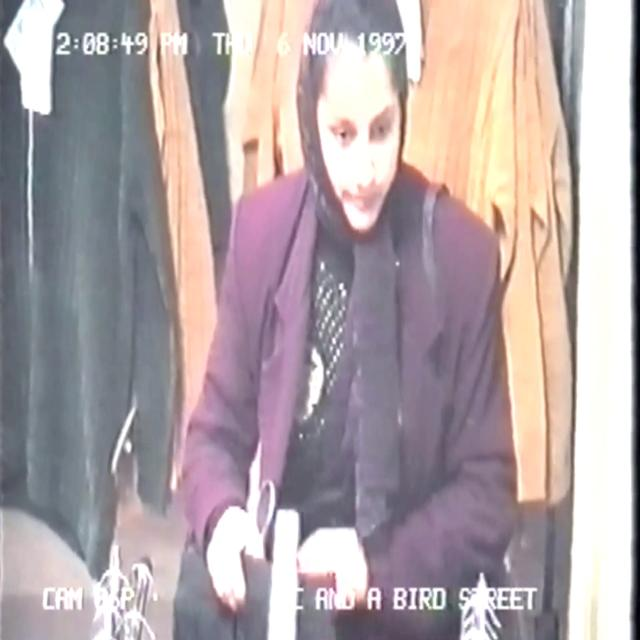Product: (175, 525, 378, 640)
shoplifting: (153, 0, 518, 640)
